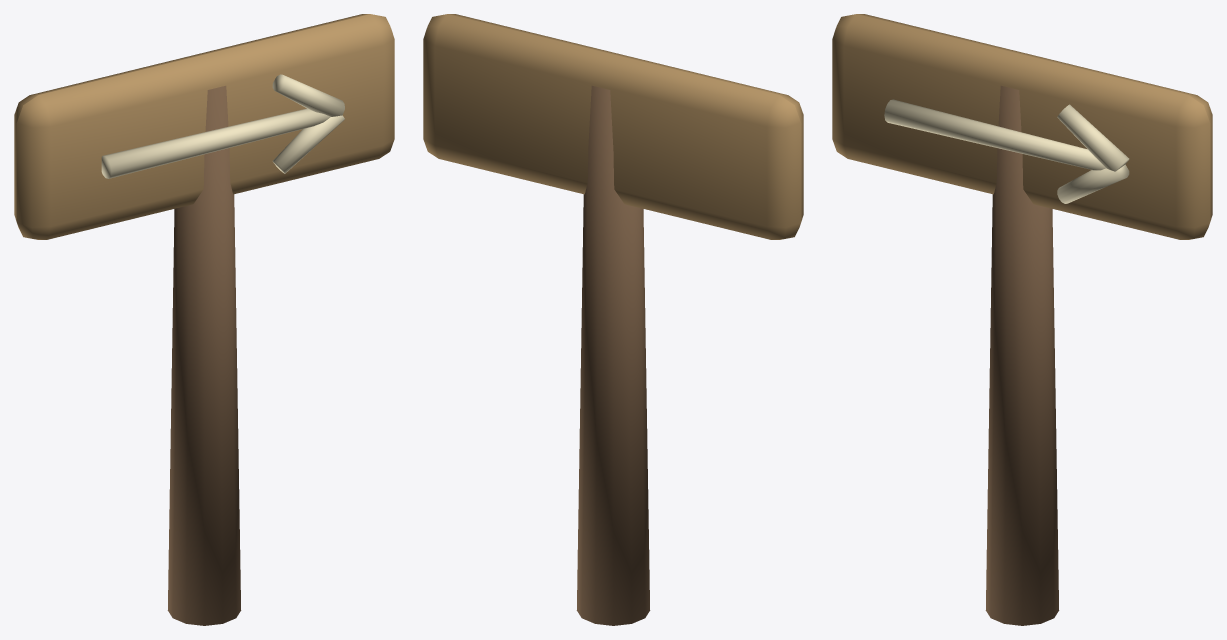
File: sign.glb
The picture shows the model from 3 angles, left to right: view 1: azimuth 30°, elevation 25°; view 2: azimuth 150°, elevation 25°; view 3: azimuth 330°, elevation 25°; orthographic projection.
Parts seen in each view (by area): view 1: SignBoard, SignPost, ArrowShaft, ArrowTipA, ArrowTipB; view 2: SignBoard, SignPost; view 3: SignBoard, SignPost, ArrowShaft, ArrowTipA, ArrowTipB.
Boxes of the visible parts, x1=… form: SignBoard: x1=14, y1=14, x2=394, y2=239; SignPost: x1=167, y1=85, x2=241, y2=625; ArrowShaft: x1=101, y1=108, x2=330, y2=178; ArrowTipA: x1=272, y1=74, x2=344, y2=116; ArrowTipB: x1=272, y1=115, x2=344, y2=173; SignBoard: x1=423, y1=14, x2=803, y2=239; SignPost: x1=576, y1=85, x2=650, y2=625; SignBoard: x1=832, y1=14, x2=1212, y2=239; SignPost: x1=985, y1=85, x2=1059, y2=625; ArrowShaft: x1=884, y1=99, x2=1105, y2=170; ArrowTipA: x1=1057, y1=104, x2=1129, y2=171; ArrowTipB: x1=1057, y1=164, x2=1129, y2=203.
Size of the model in its own units: 0.65 by 0.92 by 0.123.
